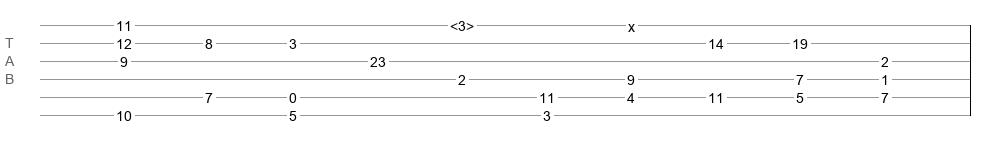0: (289, 90, 297, 100)
1: (881, 72, 889, 82)
10: (116, 108, 132, 118)
11: (116, 18, 132, 28), (539, 90, 555, 100), (708, 90, 724, 100)
12: (116, 36, 132, 46)
14: (708, 36, 724, 46)
19: (792, 36, 808, 46)
2: (458, 72, 466, 82), (881, 54, 889, 64)
23: (370, 54, 386, 64)
3: (289, 36, 297, 46), (543, 108, 551, 118)
4: (627, 90, 635, 100)
5: (289, 108, 297, 118), (796, 90, 804, 100)
7: (205, 90, 213, 100), (796, 72, 804, 82), (881, 90, 889, 100)
8: (205, 36, 213, 46)
9: (120, 54, 128, 64), (627, 72, 635, 82)
harmonic: (450, 18, 474, 28)
x: (628, 19, 635, 27)
